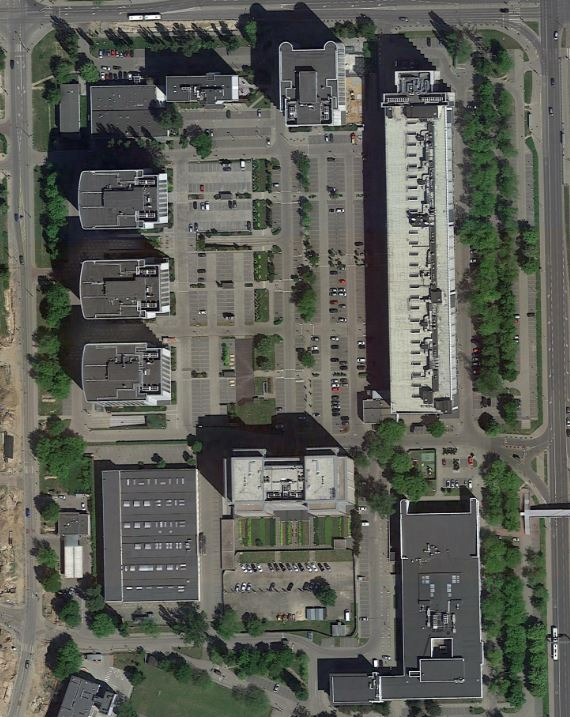block of flats: (356, 68, 464, 433), (215, 438, 364, 536), (75, 333, 179, 414), (270, 32, 351, 134), (73, 253, 174, 323), (71, 167, 175, 233), (164, 69, 246, 108)
shopping_center: (318, 481, 492, 710), (96, 454, 207, 608), (81, 82, 180, 145)
